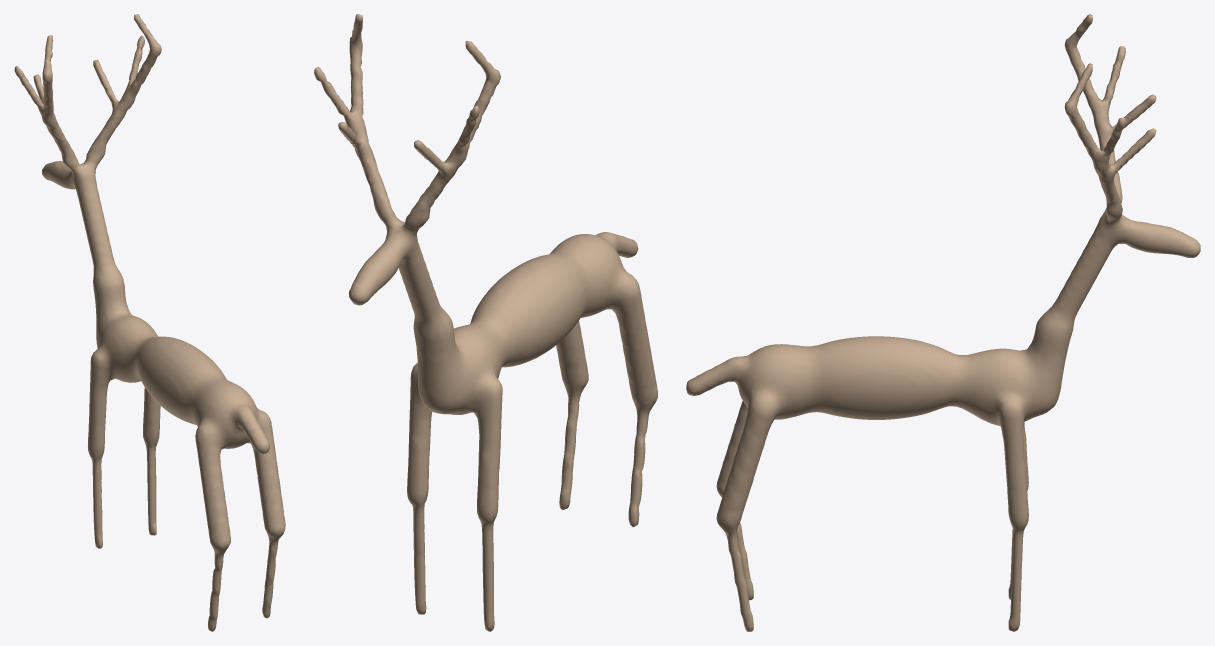
The model's file is deer.glb.
3 renders of one model, left to right at view 1: azimuth 30°, elevation 25°; view 2: azimuth 150°, elevation 25°; view 3: azimuth 270°, elevation 25°, orthographic. The views are drawn at different scales.
Parts seen in each view (by area): view 1: Deer; view 2: Deer; view 3: Deer.
Boxes of the visible parts, x1,y1,x2,y2 form: Deer: (14,14,285,631); Deer: (314,14,657,631); Deer: (686,14,1200,631).
Size of the model in its own units: 0.6578 by 2.41 by 1.95.
